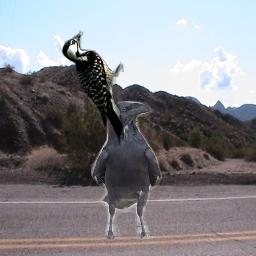Crow: (91, 101, 163, 241)
Woodpecker: (61, 30, 124, 146)
